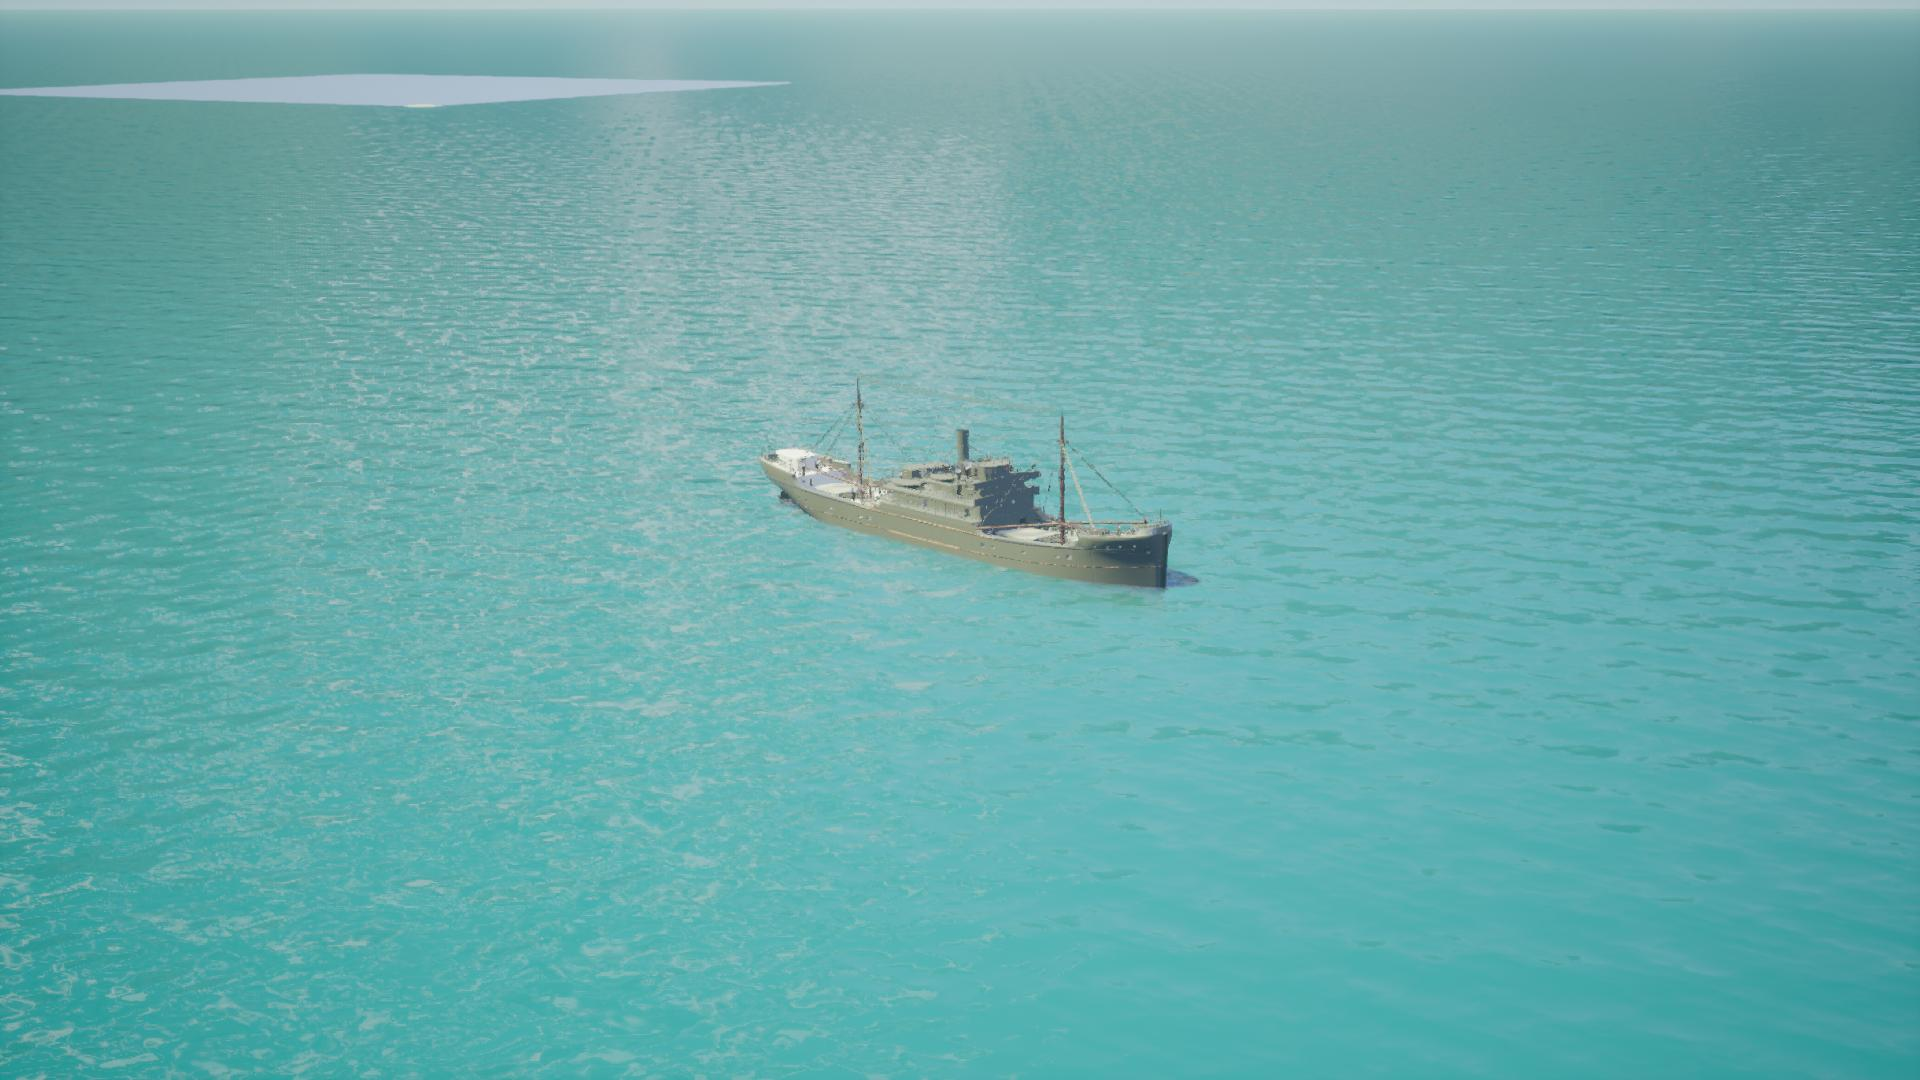Fishing Boat: (760, 413, 1175, 593)
